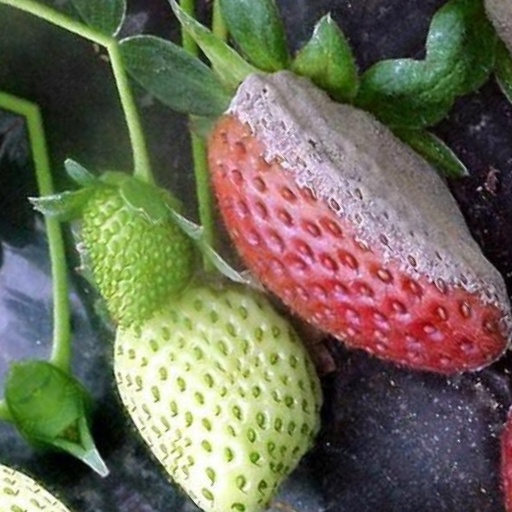Gray Mold: (311, 112, 450, 494)
